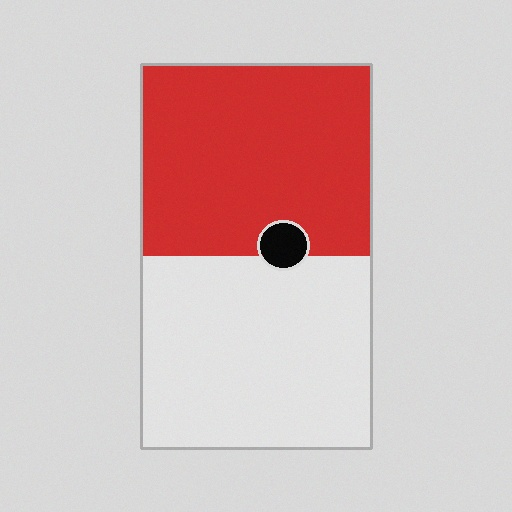hole: (256, 218, 310, 272)
